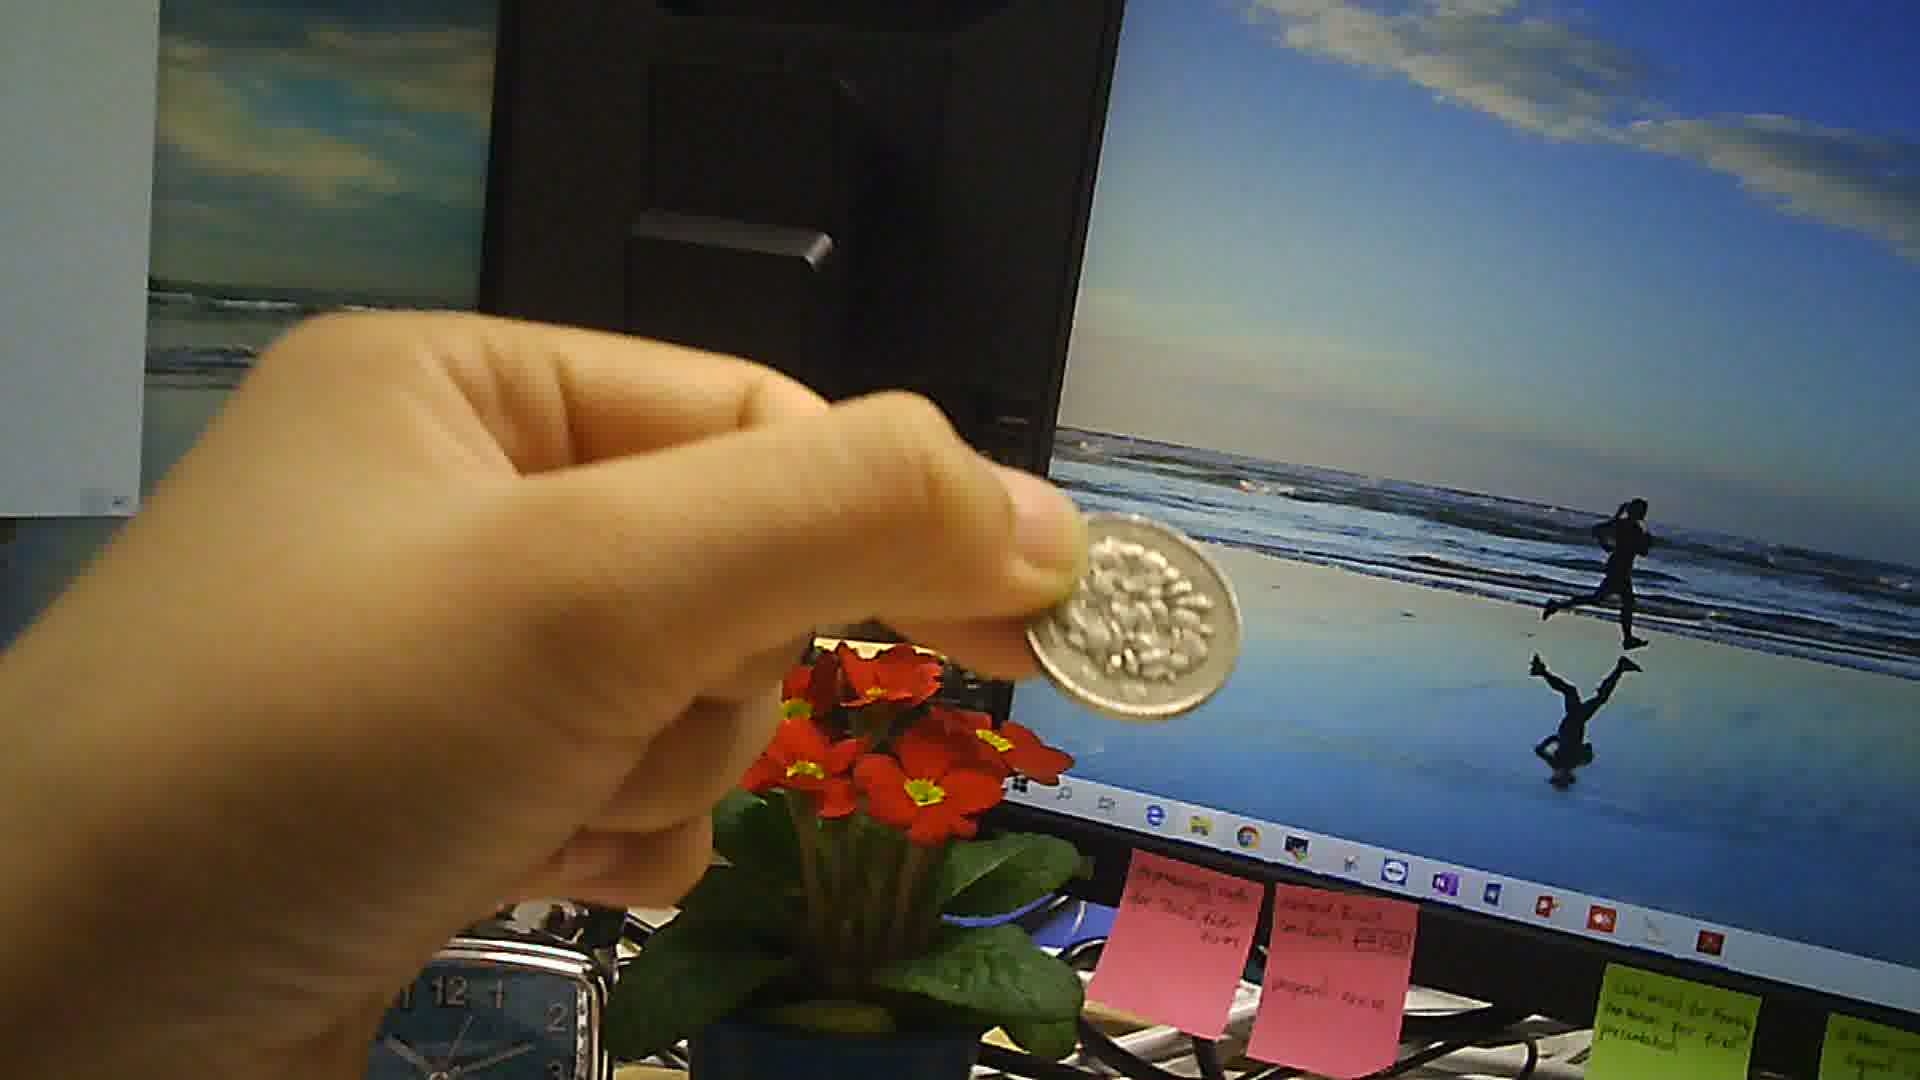100 Yen: (1022, 504, 1250, 723)
